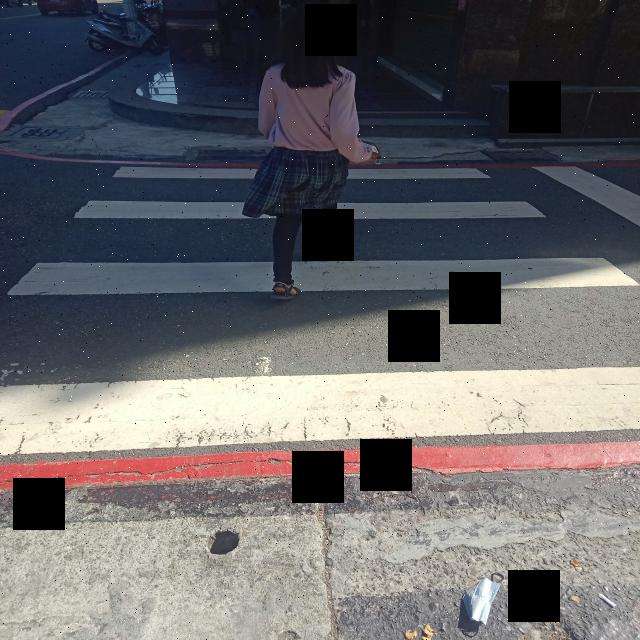person: (243, 5, 378, 300)
zebra crossing: (0, 163, 639, 464)
